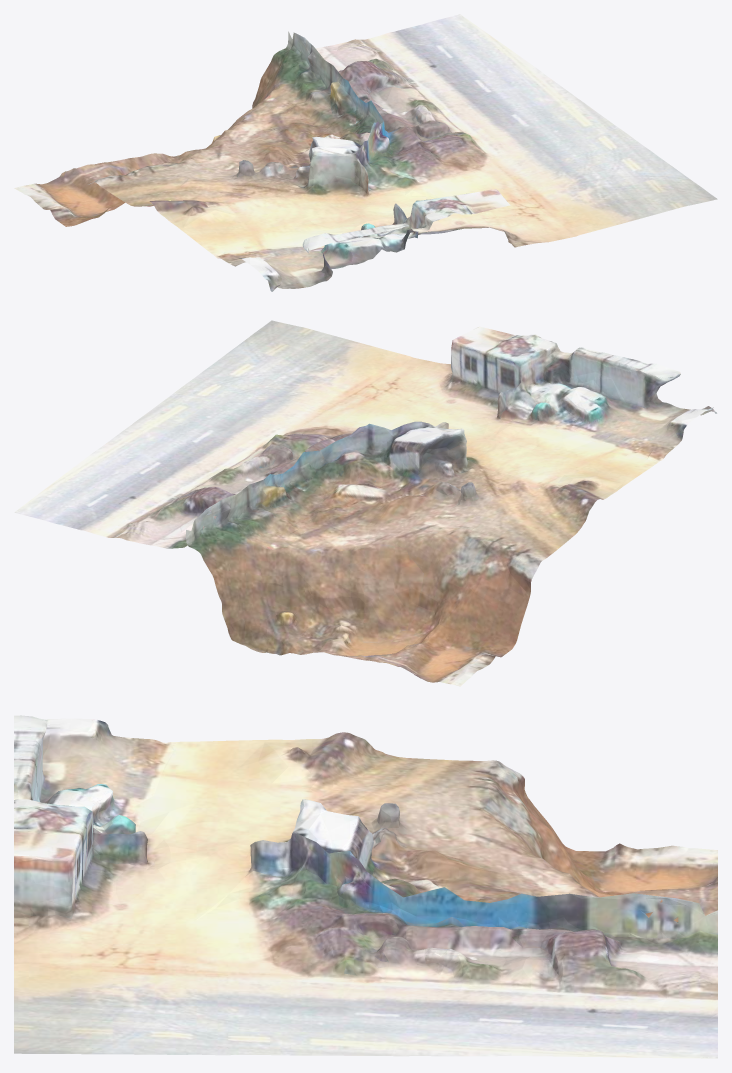
Rendered from Tile_+005_+006_L22_00000000.glb.
The picture shows the model from 3 angles, top to bottom: view 1: azimuth 30°, elevation 25°; view 2: azimuth 150°, elevation 25°; view 3: azimuth 270°, elevation 25°; orthographic projection. The views are drawn at different scales.
Visible parts, largest first — view 1: rtc; view 2: rtc; view 3: rtc.
Part boxes in pixels (box(x1,y1,x2,y2)): rtc: box(14, 14, 717, 291); rtc: box(14, 320, 716, 686); rtc: box(14, 715, 717, 1058).
Bounding box in the file's own units: 25.59 × 7.38 × 25.59.
1 material, 1 textured.
